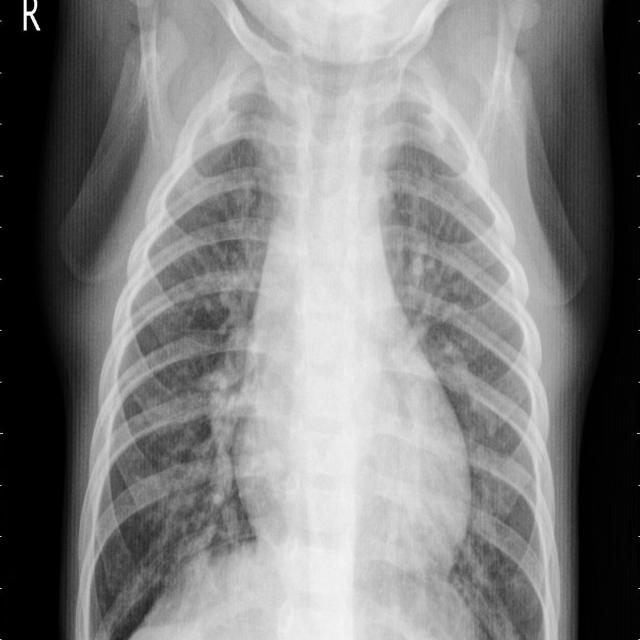low-pneumonia: (199, 220, 258, 505), (217, 63, 287, 243)
